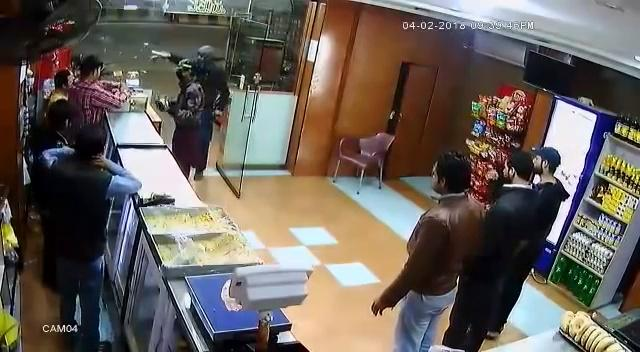weapon: (147, 47, 171, 57)
